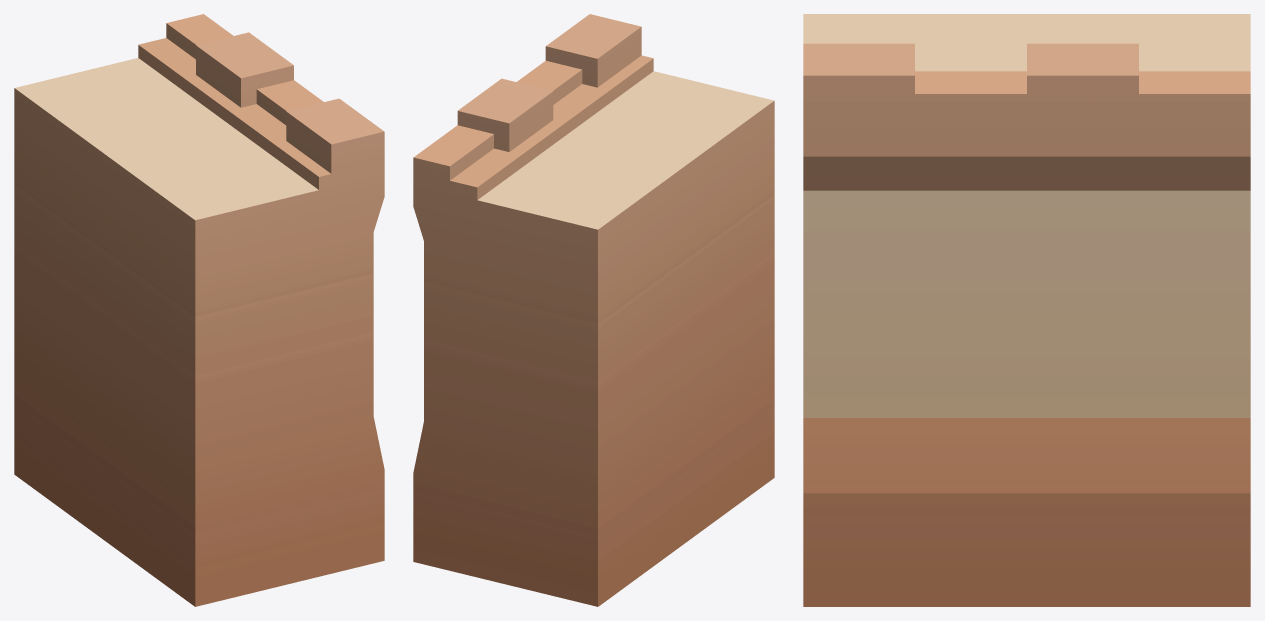
Rendered from wall-half-modular.glb.
3 renders of one model, left to right at view 1: azimuth 30°, elevation 25°; view 2: azimuth 150°, elevation 25°; view 3: azimuth 270°, elevation 25°, orthographic. The views are drawn at different scales.
Parts seen in each view (by area): view 1: wall-half-modular; view 2: wall-half-modular; view 3: wall-half-modular.
Part boxes in pixels (x1,y1,x2,y2): wall-half-modular: (14, 14, 384, 606); wall-half-modular: (413, 14, 774, 606); wall-half-modular: (803, 14, 1250, 606).
Size of the model in its own units: 0.6045 by 1.31 by 1.
1 material, 1 textured.
